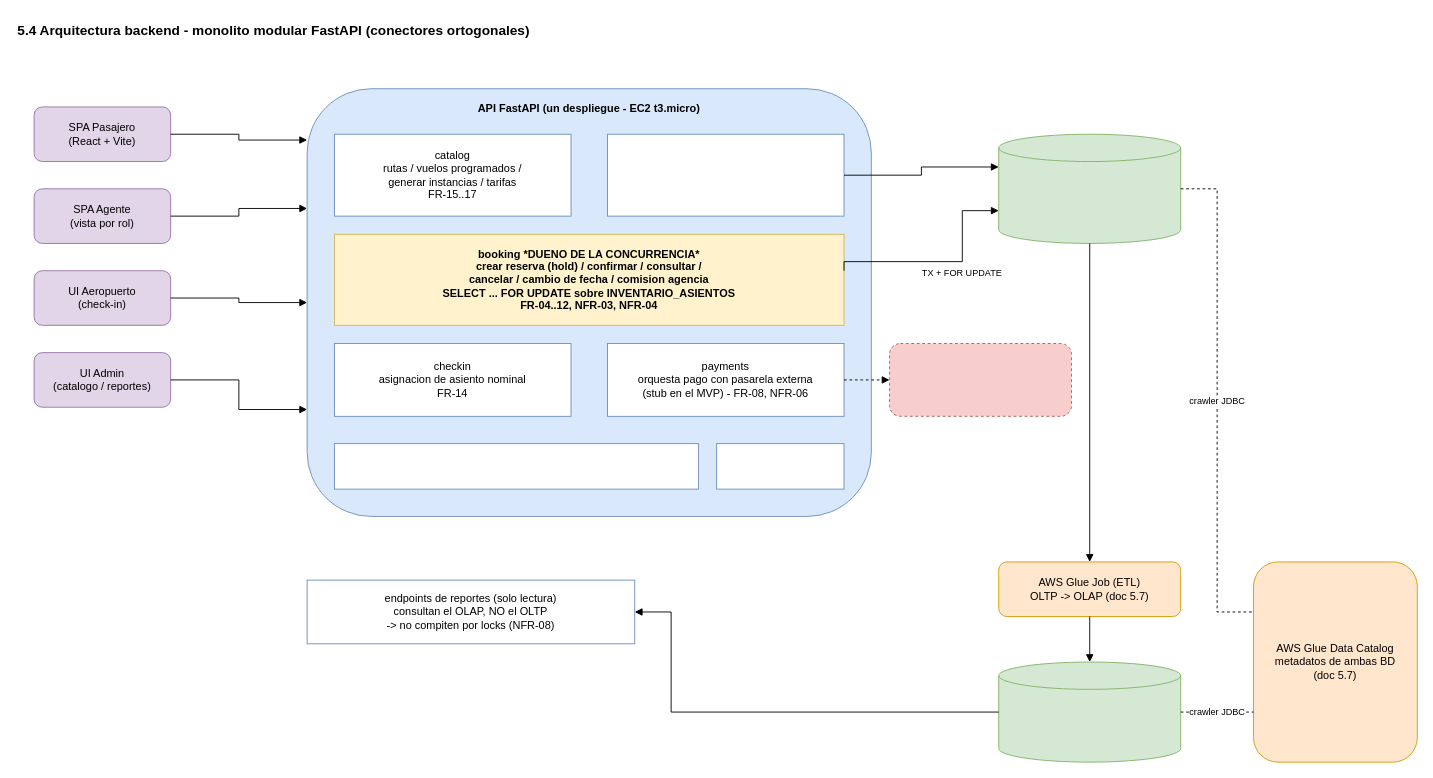
The diagram is 1433 pixels wide and 778 high, and some of its shapes have lost their labels. Here are the shapes that lost their labels. From the top down, the centre of each, then its label:
(x=725, y=174): search vuelos directos + 1 escala precio por tarifa FR-01, FR-02, FR-03
(x=1089, y=188): RDS PostgreSQL - OLTP modelo 5.3 (3FN) StorageEncrypted, single-AZ NFR-03/04/07
(x=980, y=379): Pasarela de pago EXTERNA (no guardamos datos de tarjeta)
(x=516, y=466): audit - escribe EVENTO_RESERVA (append-only) - FR-13, NFR-09
(x=780, y=466): jobs expiracion de holds (cada 1 min) FR-07
(x=1089, y=711): RDS PostgreSQL - OLAP esquema estrella (doc 5.7) sirve reportes FR-18
